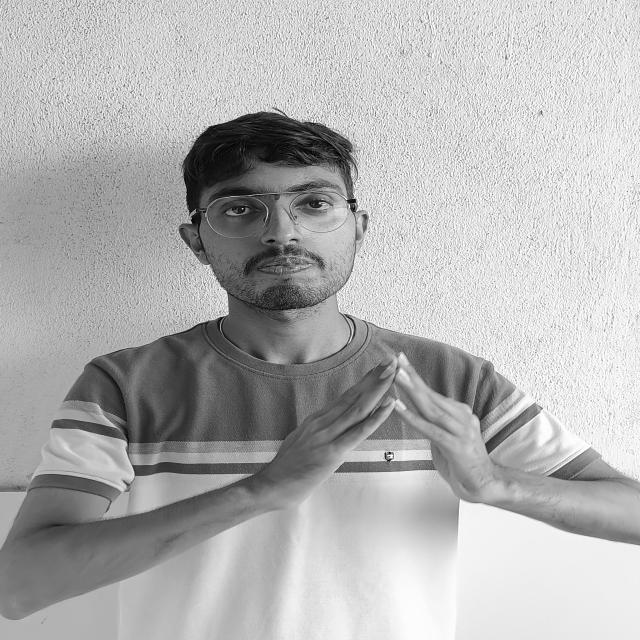Home: (233, 349, 546, 524)
